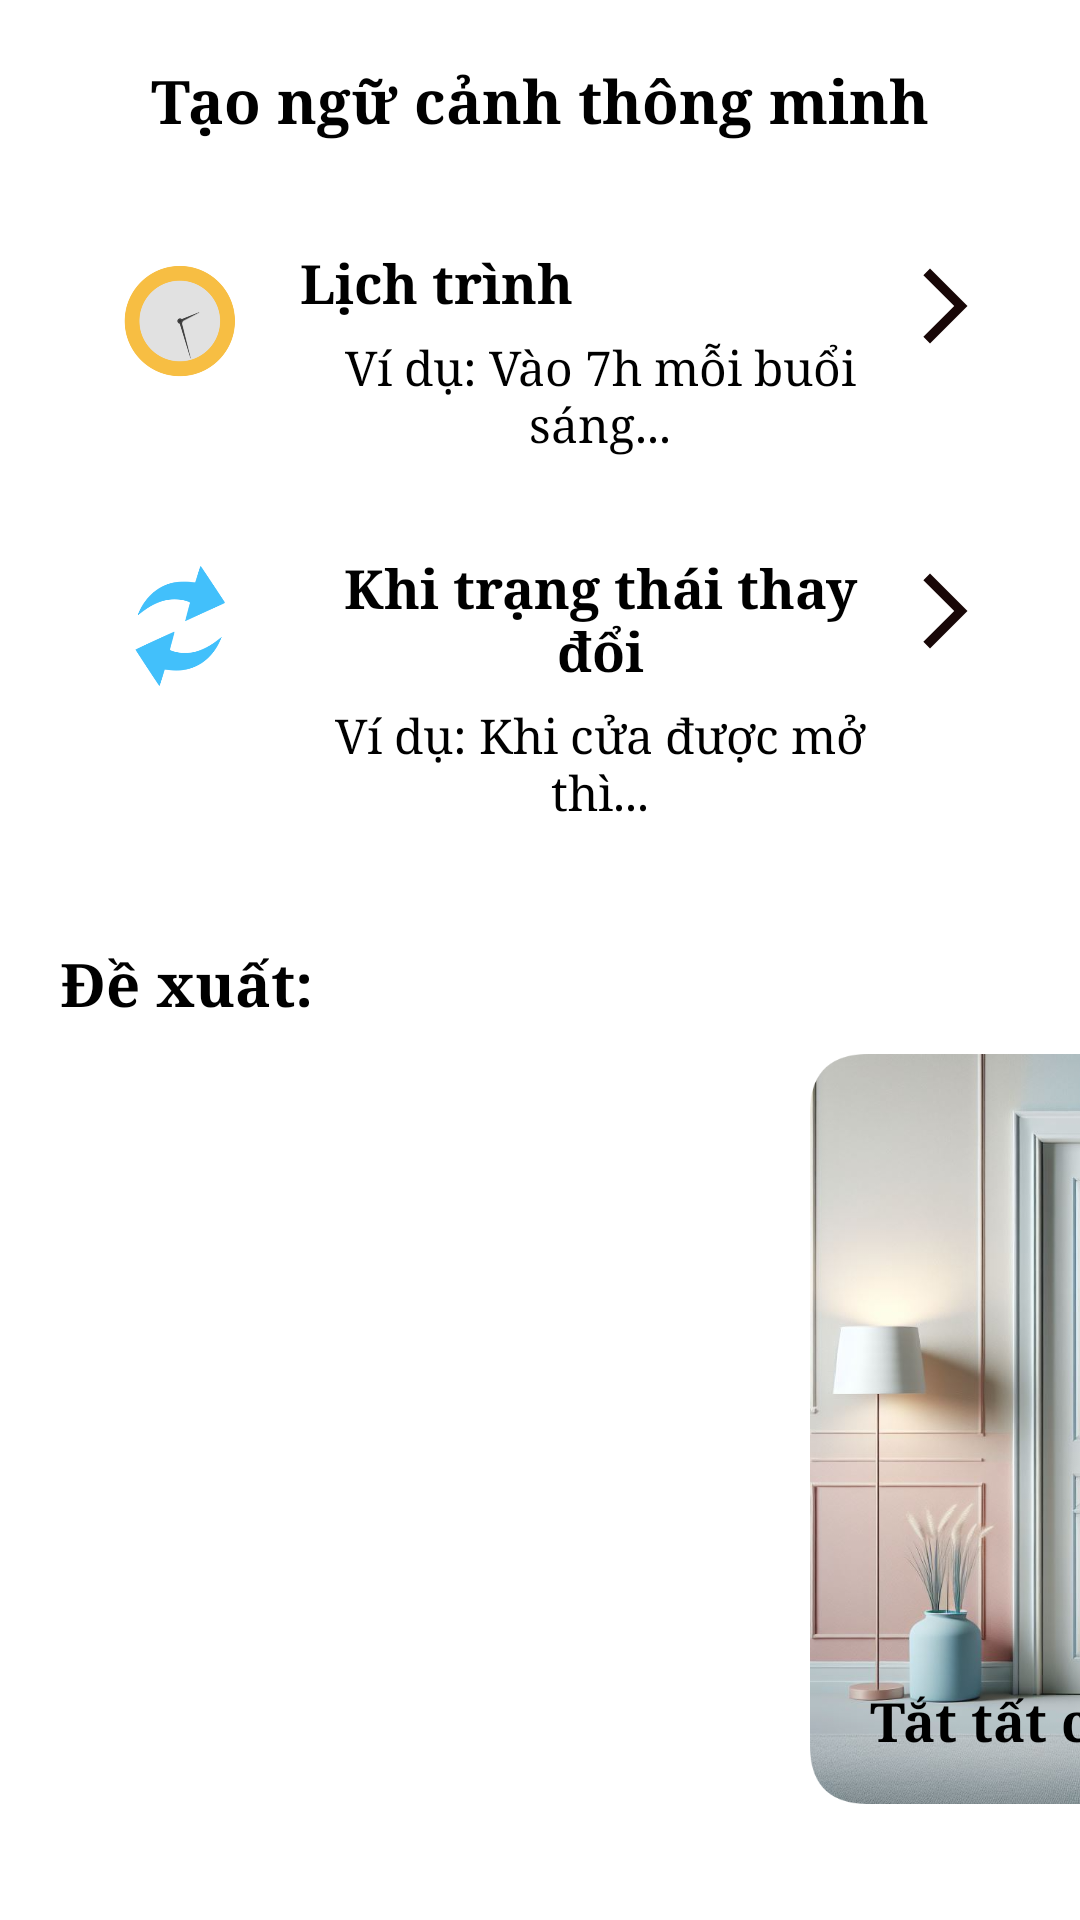

Icons on this 1080*1920 Android screen, each with its box as [left=x1, top=y1, right=x2, bottom=y2]:
change: [left=135, top=566, right=225, bottom=686]
clock: [left=124, top=266, right=235, bottom=376]
next: [left=923, top=268, right=968, bottom=344], [left=923, top=573, right=968, bottom=649]
